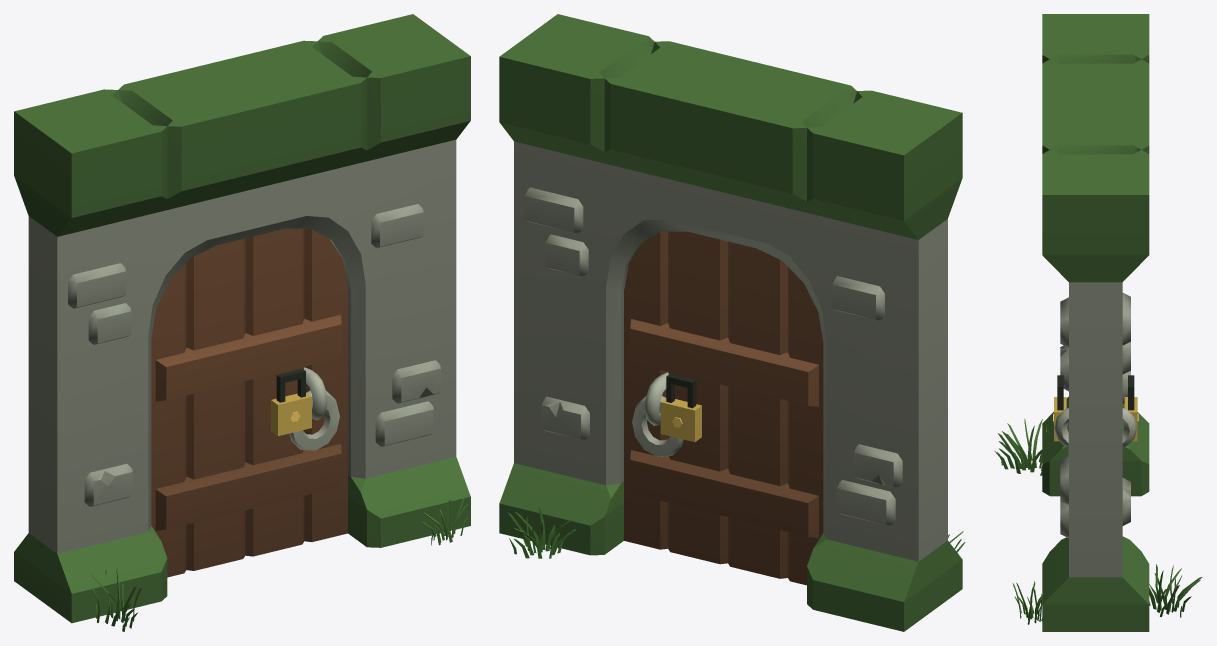
Rendered from door_locked.fbx.
3 views of the same model, side by side, from view 1: azimuth 30°, elevation 25°; view 2: azimuth 150°, elevation 25°; view 3: azimuth 270°, elevation 25° (orthographic). The views are drawn at different scales.
Visible parts, largest first — view 1: door_locked, Door, Lock; view 2: door_locked, Door, Lock; view 3: door_locked, Lock, Door.
Part boxes in pixels (x1,y1,x2,y2): door_locked: [14, 14, 470, 631]; Door: [151, 228, 347, 577]; Lock: [271, 369, 311, 436]; door_locked: [499, 14, 965, 631]; Door: [624, 231, 823, 585]; Lock: [660, 374, 701, 442]; door_locked: [994, 14, 1202, 631]; Lock: [1053, 375, 1138, 441]; Door: [1054, 408, 1136, 455].
Bounding box in the file's own units: 4 × 4.5 × 1.94.
